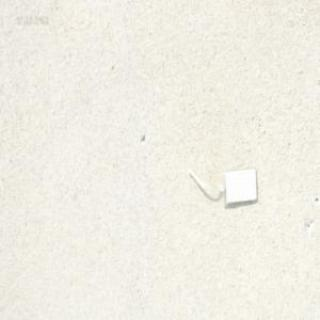LuggageTagtrack_idkeyframe: (182, 162, 257, 208)
